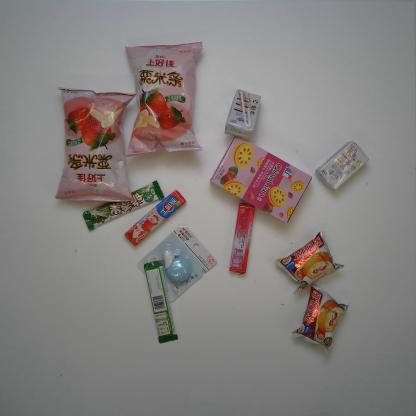Candy: (123, 188, 189, 245), (228, 204, 256, 272)
Chocolate: (82, 180, 166, 233), (143, 259, 179, 344)
Dessert: (210, 133, 313, 221), (275, 232, 343, 290), (293, 287, 351, 351)
Milk: (315, 138, 370, 193), (223, 91, 262, 135)
Puffed Food: (54, 84, 136, 204), (120, 41, 205, 154)
Stationery: (135, 228, 219, 305)
